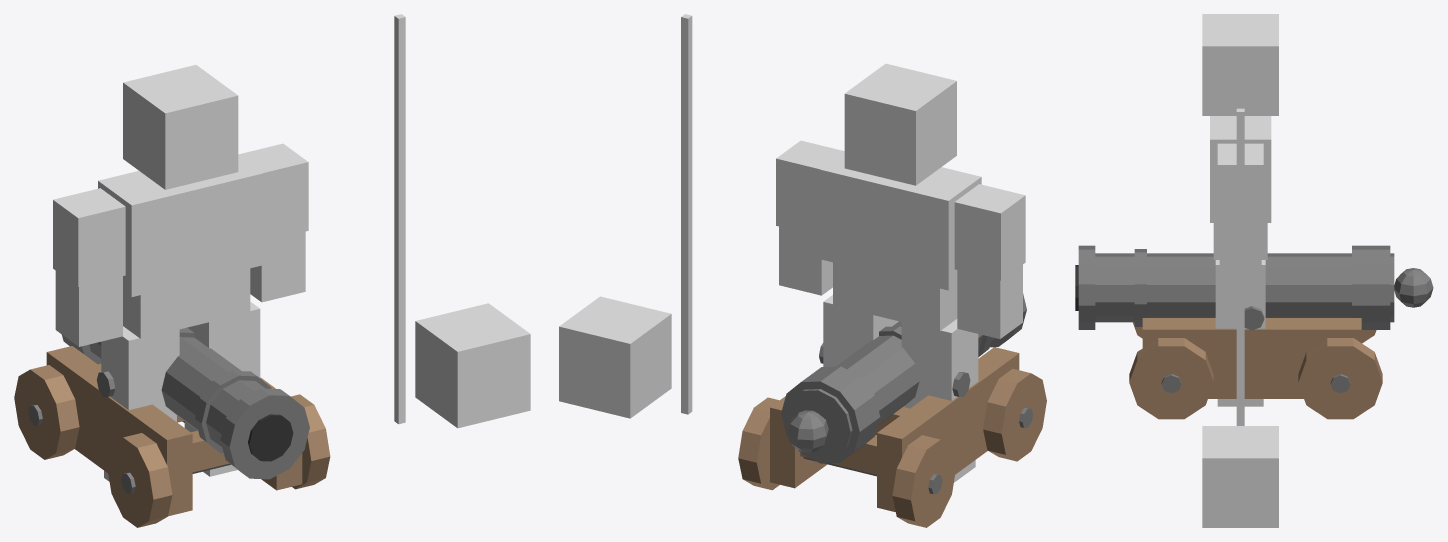
Rendered from grotto_cannon.fbx.
3 renders of one model, left to right at view 1: azimuth 30°, elevation 25°; view 2: azimuth 150°, elevation 25°; view 3: azimuth 270°, elevation 25°, orthographic. The views are drawn at different scales.
Visible parts, largest first — view 1: Ref_UpperTorso, Ref_Head, 1_Stud_Cube, Cannon_CheekL, Ref_LeftUpperArm, Ref_LowerTorso, Cannon_Barrel, 5.3_Stud_Height_Ruler, Ref_LeftUpperLeg, Cannon_Muzzle, Cannon_Wheel_1, Cannon_Wheel_3 (+9 smaller); view 2: Ref_UpperTorso, 1_Stud_Cube, Ref_Head, Cannon_CheekL, Cannon_Barrel, Ref_LeftUpperArm, Ref_LowerTorso, 5.3_Stud_Height_Ruler, Ref_LeftUpperLeg, Cannon_Wheel_3, Cannon_Wheel_1, Ref_RightUpperArm (+8 smaller); view 3: Cannon_Barrel, Cannon_CheekR, 1_Stud_Cube, Ref_Head, Cannon_Wheel_4, Cannon_Wheel_2, Ref_RightUpperArm, Cannon_Breech, Ref_UpperTorso, 5.3_Stud_Height_Ruler, Ref_RightLowerArm, Ref_RightUpperLeg (+4 smaller).
Part boxes in pixels (bbox=[...]): Ref_UpperTorso: bbox=[98, 155, 263, 296]; Ref_Head: bbox=[123, 65, 238, 189]; 1_Stud_Cube: bbox=[415, 303, 530, 428]; Cannon_CheekL: bbox=[46, 346, 192, 516]; Ref_LeftUpperArm: bbox=[53, 188, 125, 286]; Ref_LowerTorso: bbox=[123, 268, 250, 338]; Cannon_Barrel: bbox=[89, 337, 265, 448]; 5.3_Stud_Height_Ruler: bbox=[394, 14, 405, 424]; Ref_LeftUpperLeg: bbox=[101, 326, 179, 415]; Cannon_Muzzle: bbox=[220, 388, 309, 479]; Cannon_Wheel_1: bbox=[107, 433, 172, 527]; Cannon_Wheel_3: bbox=[14, 365, 79, 459]; Ref_UpperTorso: bbox=[820, 152, 981, 290]; 1_Stud_Cube: bbox=[559, 296, 671, 418]; Ref_Head: bbox=[844, 63, 956, 185]; Cannon_CheekL: bbox=[877, 347, 1019, 511]; Cannon_Barrel: bbox=[786, 321, 995, 457]; Ref_LeftUpperArm: bbox=[954, 184, 1025, 280]; Ref_LowerTorso: bbox=[833, 262, 957, 331]; 5.3_Stud_Height_Ruler: bbox=[681, 14, 692, 414]; Ref_LeftUpperLeg: bbox=[901, 319, 978, 405]; Cannon_Wheel_3: bbox=[892, 435, 956, 527]; Cannon_Wheel_1: bbox=[983, 369, 1046, 461]; Ref_RightUpperArm: bbox=[776, 140, 844, 236]; Cannon_Barrel: bbox=[1095, 253, 1394, 322]; Cannon_CheekR: bbox=[1142, 318, 1361, 398]; 1_Stud_Cube: bbox=[1202, 426, 1278, 527]; Ref_Head: bbox=[1202, 14, 1278, 115]; Cannon_Wheel_4: bbox=[1298, 338, 1382, 419]; Cannon_Wheel_2: bbox=[1129, 338, 1213, 419]; Ref_RightUpperArm: bbox=[1217, 143, 1263, 227]; Cannon_Breech: bbox=[1352, 245, 1390, 329]; Ref_UpperTorso: bbox=[1210, 116, 1271, 222]; 5.3_Stud_Height_Ruler: bbox=[1236, 108, 1244, 425]; Ref_RightLowerArm: bbox=[1219, 227, 1261, 282]; Ref_RightUpperLeg: bbox=[1215, 260, 1265, 328].
Bounding box in the file's own units: 6.07 × 5.3 × 4.66.
